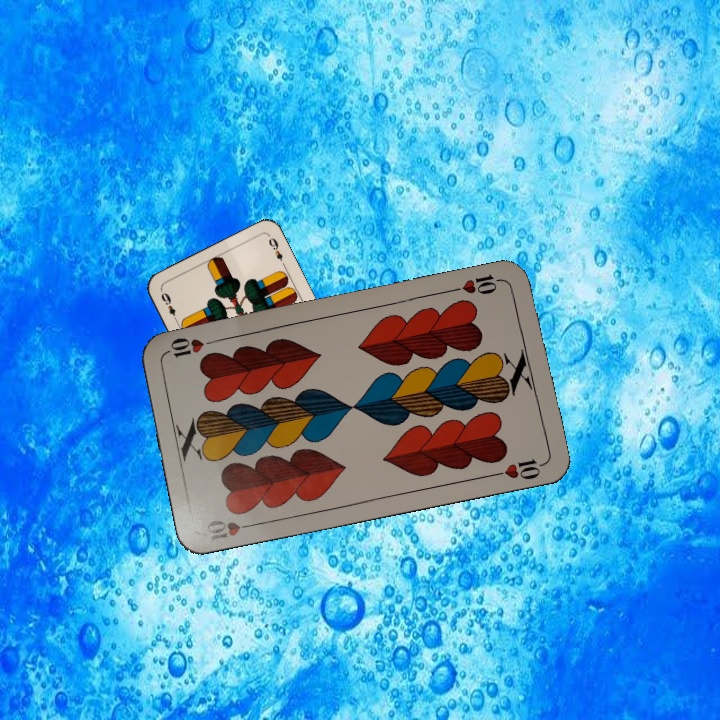E9: (157, 287, 181, 325)
H10: (202, 515, 260, 544), (448, 270, 507, 297)
